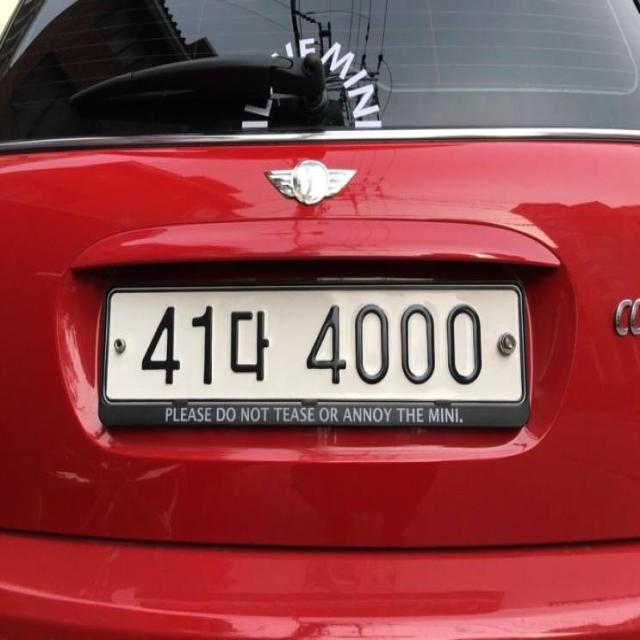illegal_plate: (98, 273, 534, 445)
